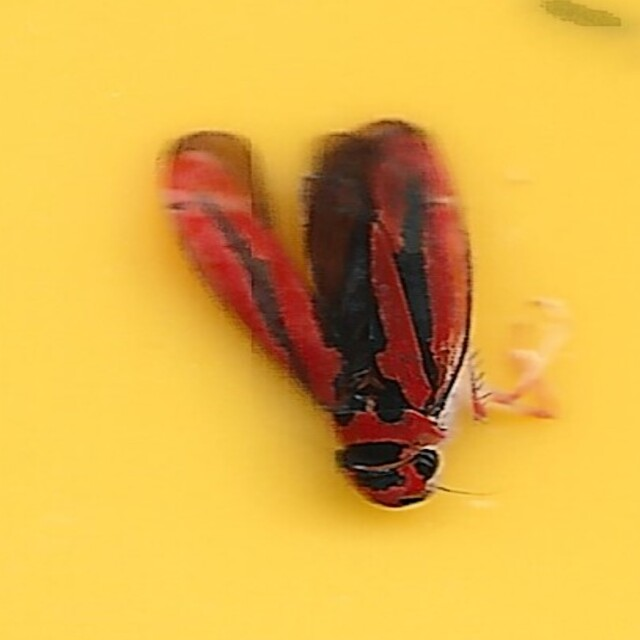Hemiptera: (157, 119, 483, 521)
